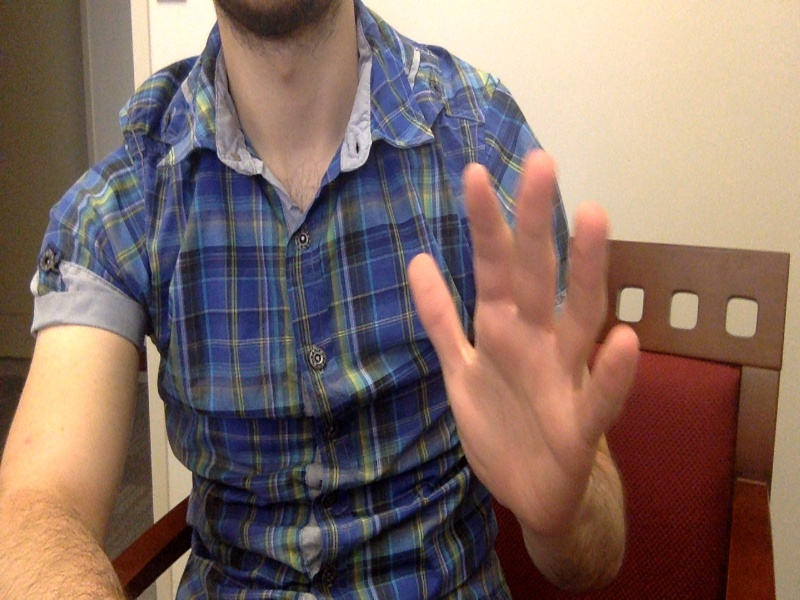5-hand: (409, 152, 639, 529)
